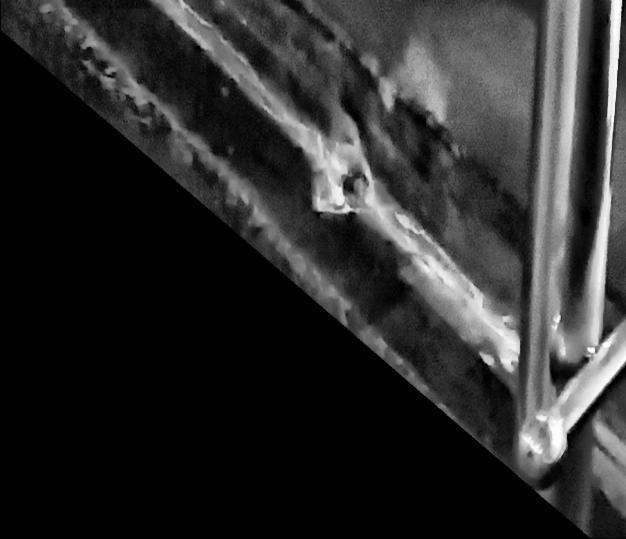stairs: (1, 0, 626, 539)
